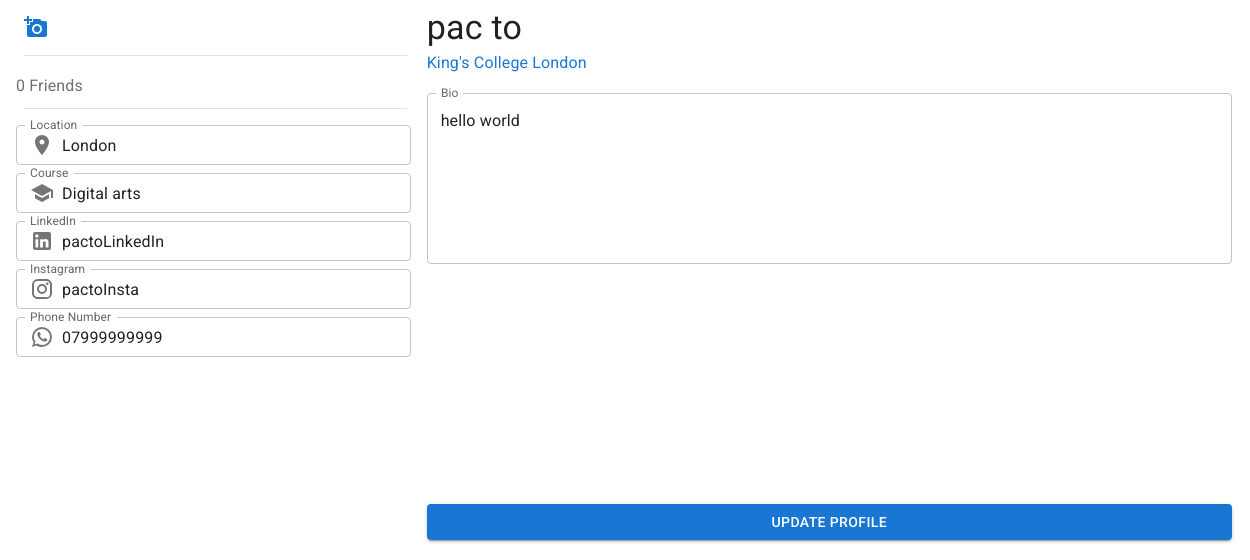
Test: Edit Profile Page Tests › Handles field errors › Shows phone field error
Click the button "Update Profile". click: point(829, 522)
box: [427,504,1232,540]
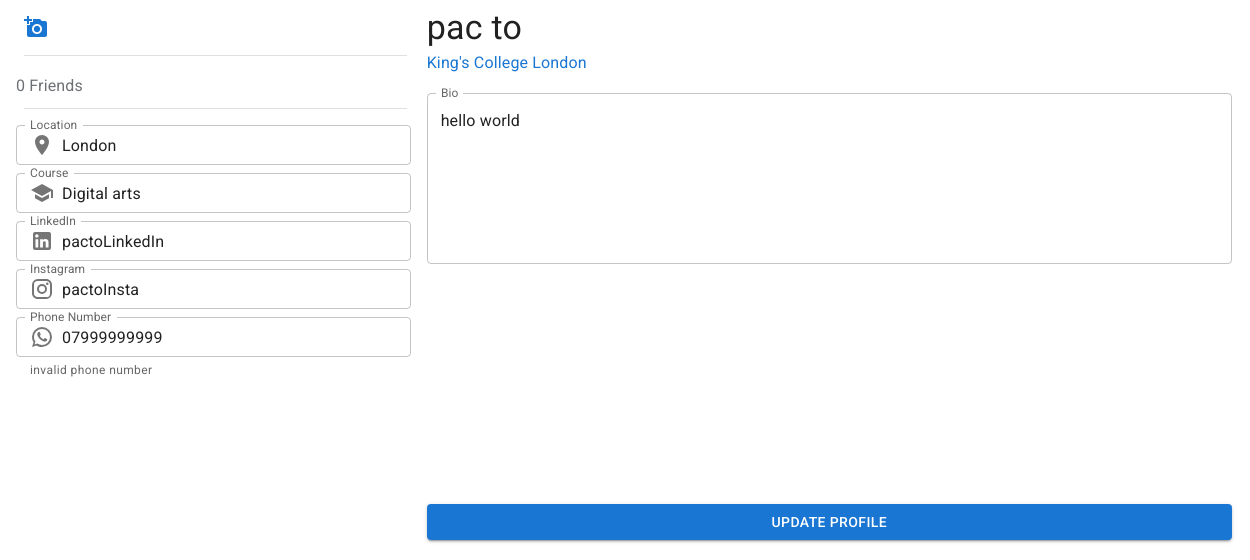
Check: the text "invalid phone number" is shown, box [30,363,152,377]
